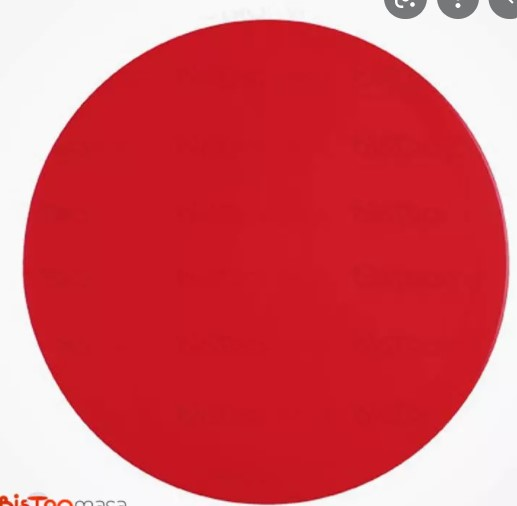su birakma alani: (24, 20, 511, 503)
